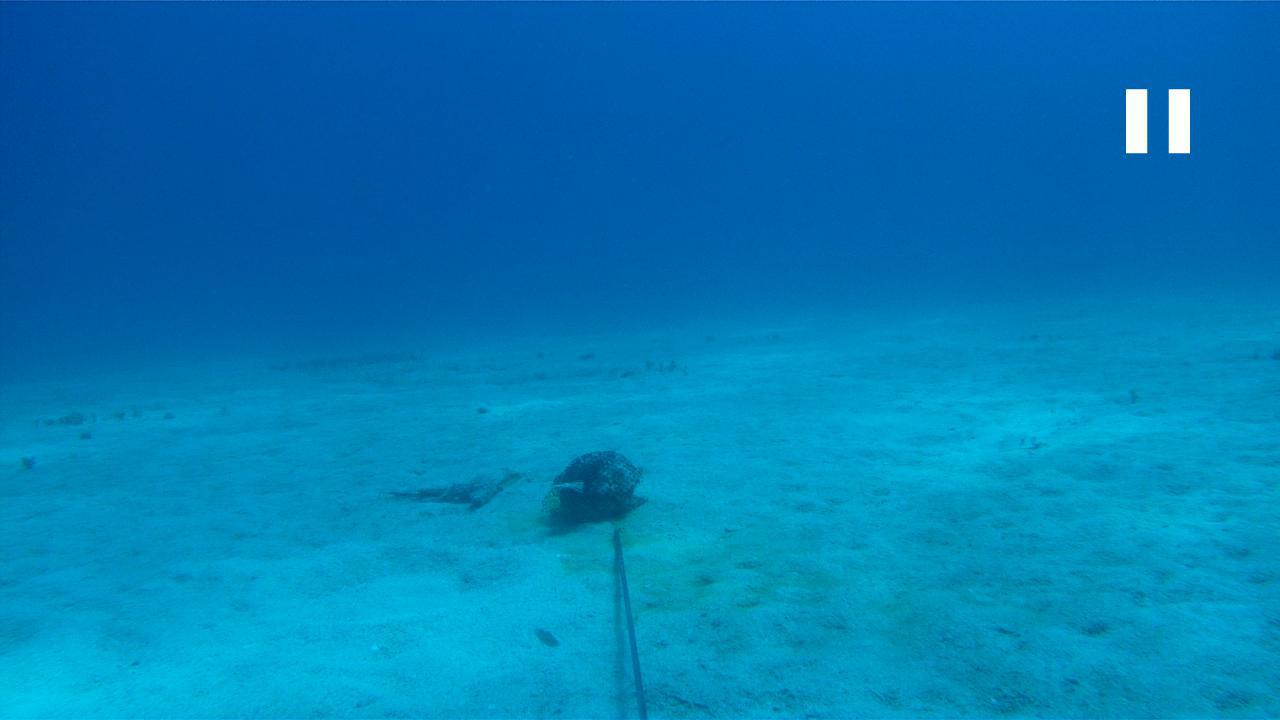bothus: (992, 426, 1050, 452)
